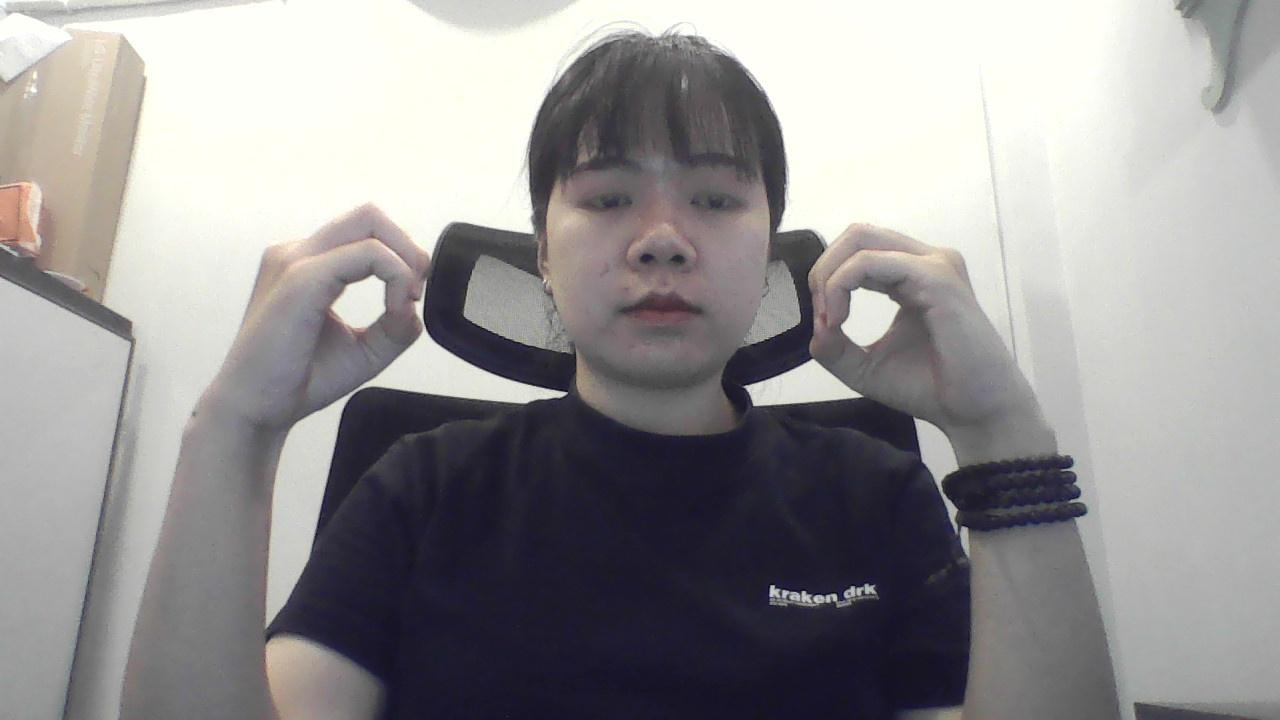O: (216, 175, 448, 440), (785, 187, 1010, 422)
